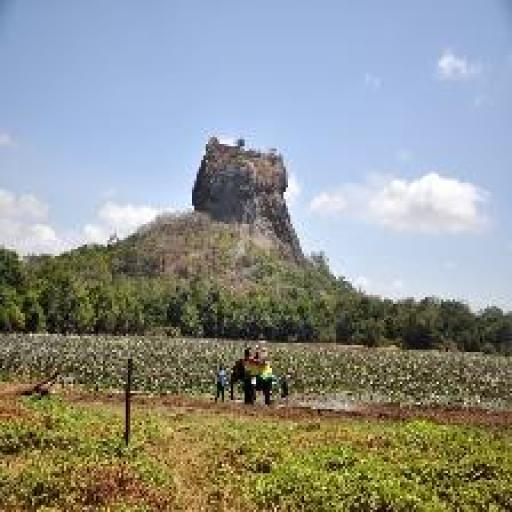Elephant: (226, 356, 288, 404)
